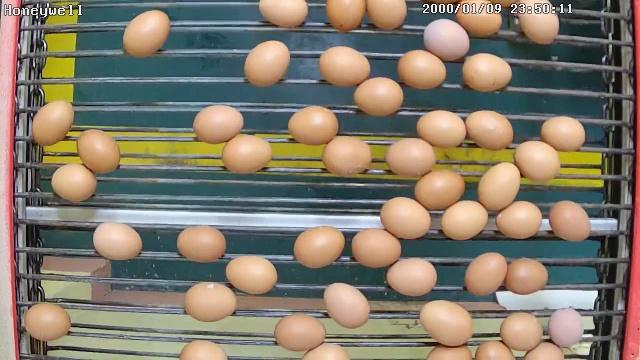egg: (418, 298, 476, 348), (121, 8, 172, 59), (412, 166, 466, 214), (292, 224, 346, 271), (378, 194, 432, 241), (242, 38, 292, 88), (182, 280, 238, 324), (475, 159, 521, 212), (286, 103, 340, 148), (190, 103, 246, 145), (320, 133, 372, 178), (323, 282, 371, 330), (422, 16, 472, 62), (91, 219, 143, 263), (350, 226, 402, 270), (318, 46, 372, 88), (220, 134, 274, 176), (414, 108, 468, 150), (384, 136, 438, 178), (224, 254, 278, 296), (272, 311, 326, 353), (76, 126, 121, 176), (22, 300, 73, 344), (352, 76, 404, 119), (460, 51, 512, 94), (174, 223, 228, 264), (439, 198, 488, 243), (464, 108, 514, 152), (396, 49, 448, 91), (386, 257, 438, 299), (494, 199, 544, 242), (516, 1, 562, 47), (514, 140, 561, 185), (30, 98, 74, 146), (548, 198, 593, 244), (463, 251, 508, 297), (51, 162, 98, 204), (540, 114, 588, 154), (499, 310, 544, 352), (506, 256, 550, 297), (548, 305, 585, 349)
